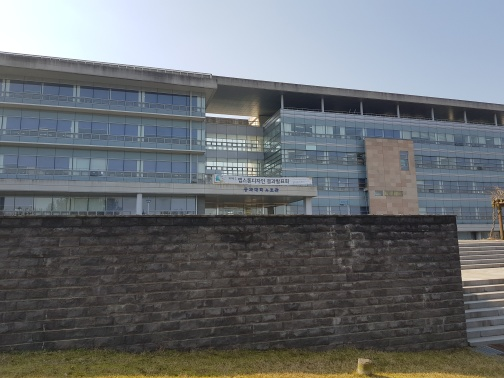Engineering College Building 4: (3, 52, 502, 220), (350, 138, 434, 214), (212, 166, 299, 210)
